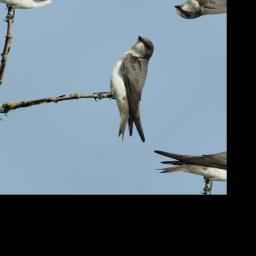Swallow: (68, 33, 207, 152)
